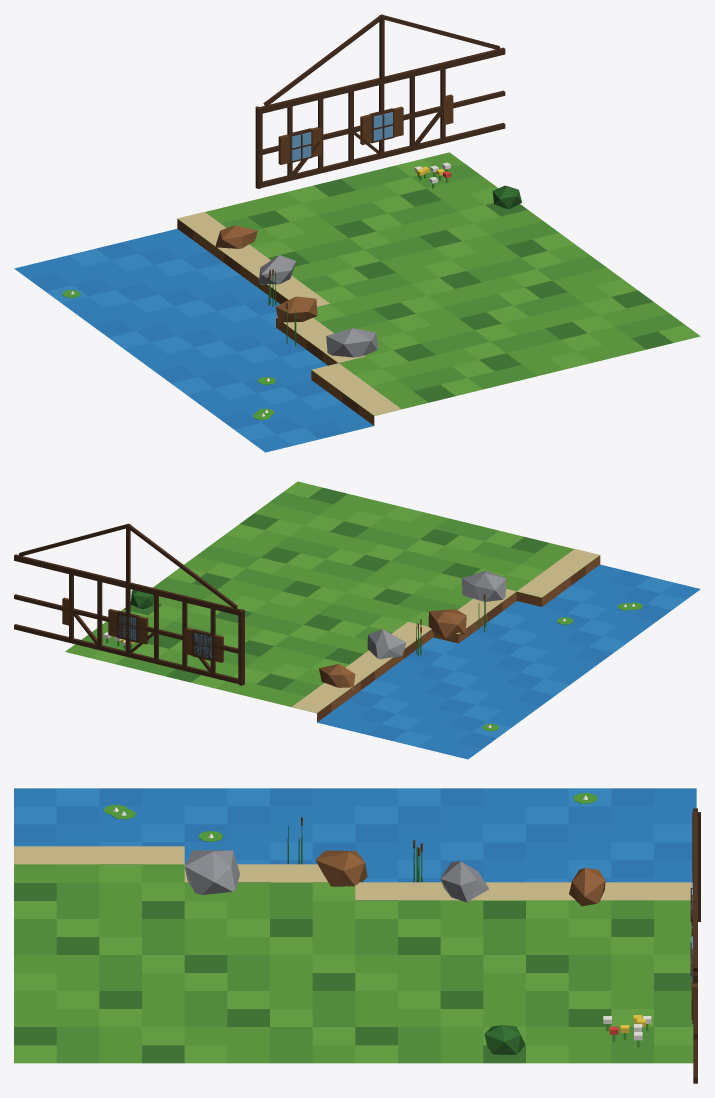
Rendered from chunk_4_13.glb.
The picture shows the model from 3 angles, top to bottom: view 1: azimuth 30°, elevation 25°; view 2: azimuth 150°, elevation 25°; view 3: azimuth 270°, elevation 25°; orthographic projection. The views are drawn at different scales.
Parts seen in each view (by area): view 1: chunk_4_13; view 2: chunk_4_13; view 3: chunk_4_13.
Part boxes in pixels (x1=…): chunk_4_13: x1=14, y1=14, x2=700, y2=452; chunk_4_13: x1=14, y1=481, x2=700, y2=759; chunk_4_13: x1=14, y1=788, x2=700, y2=1083.
Bounding box in the file's own units: 18 × 5.93 × 16.1.
